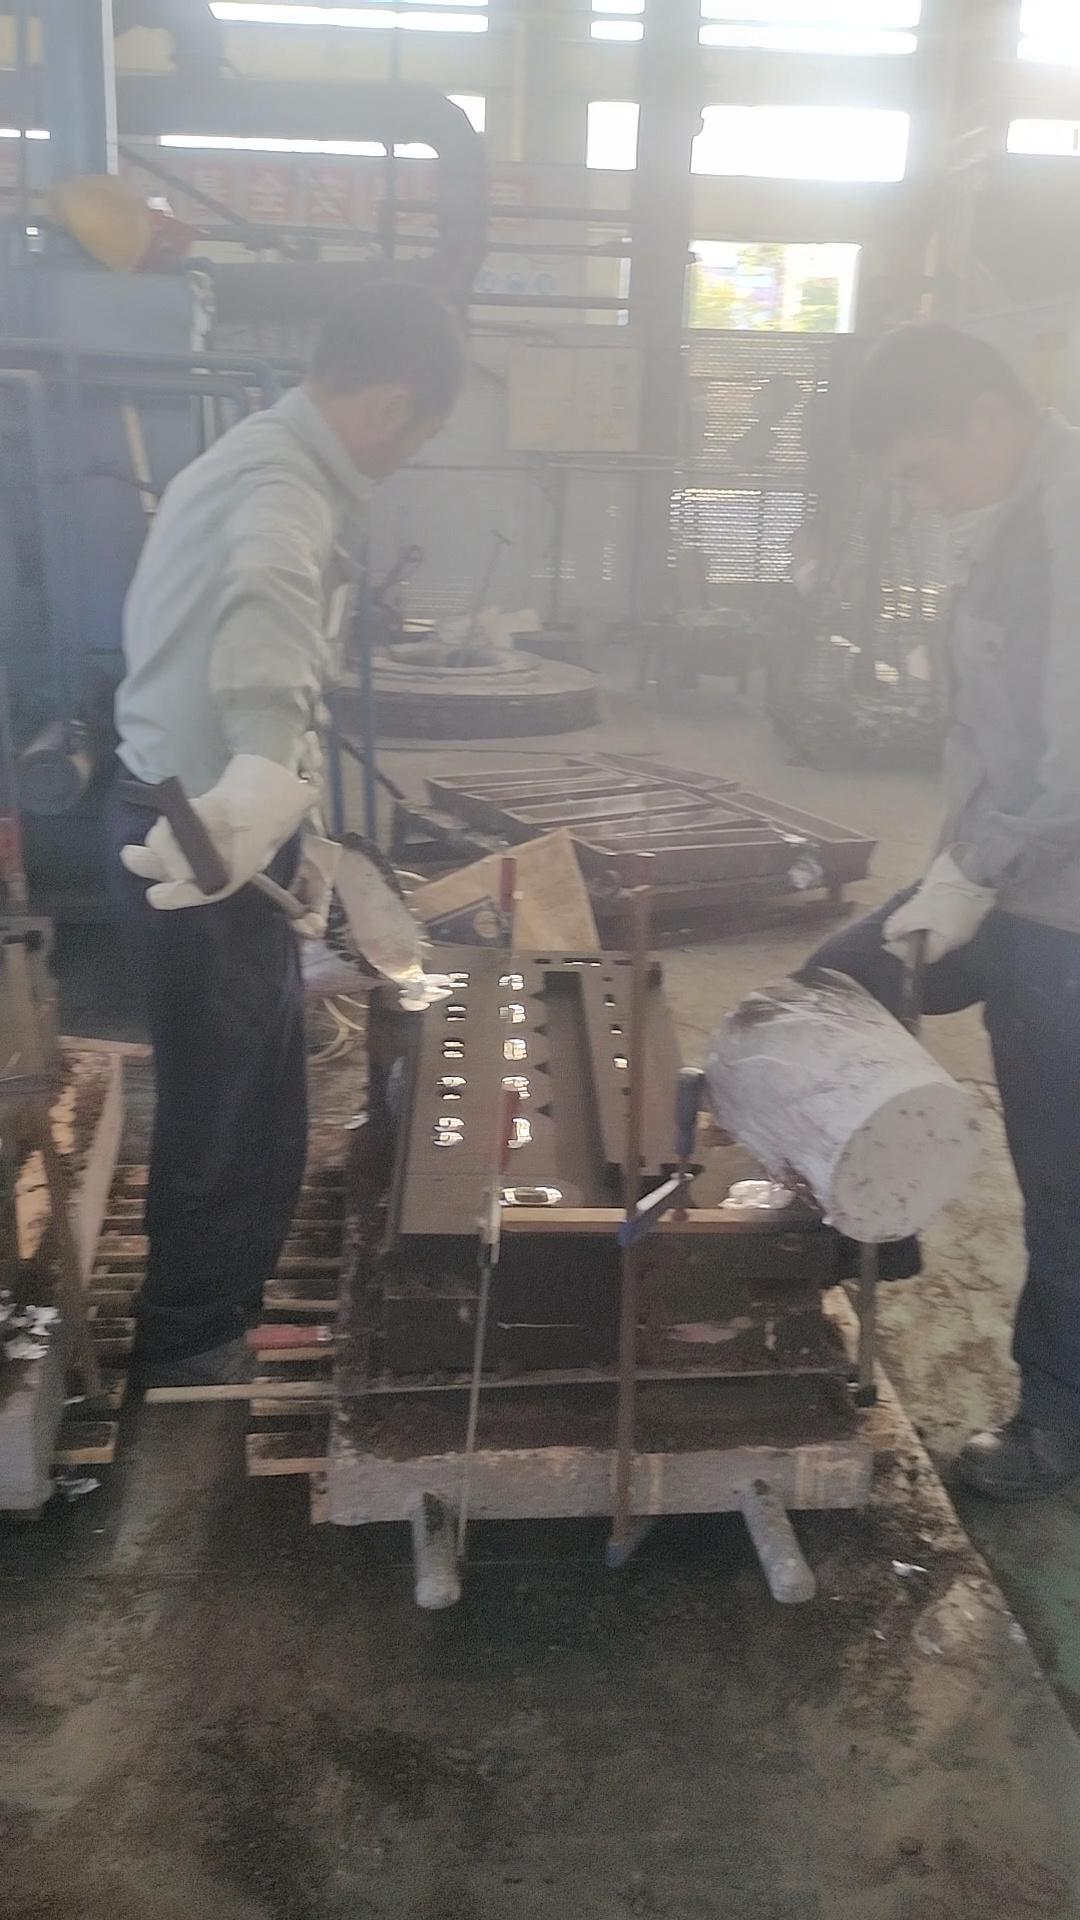pouring hole: (729, 1176, 793, 1211), (393, 985, 450, 1005)
